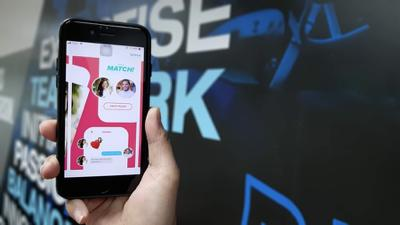Mobile Phone: (54, 17, 151, 199)
